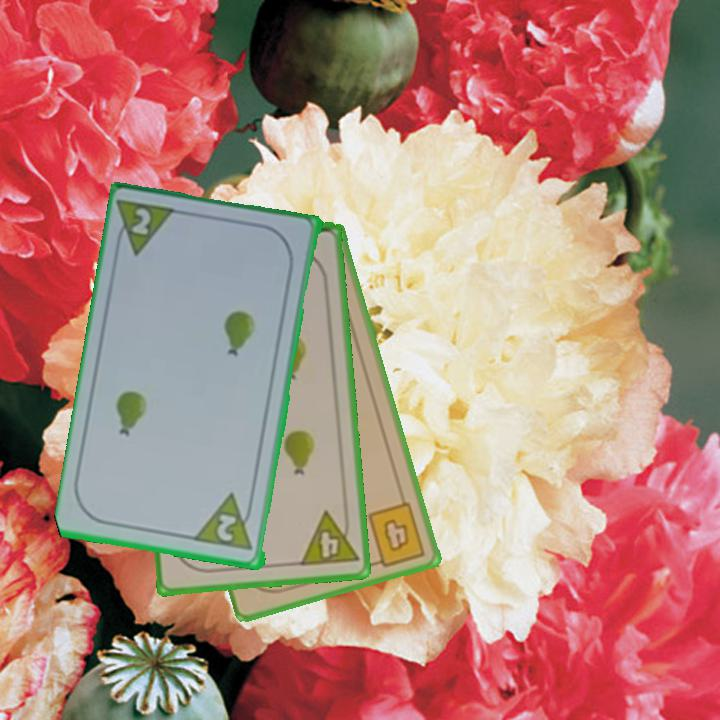2p: (193, 490, 257, 554), (128, 204, 155, 239)
4b: (364, 498, 429, 570)
4p: (296, 506, 361, 570)
